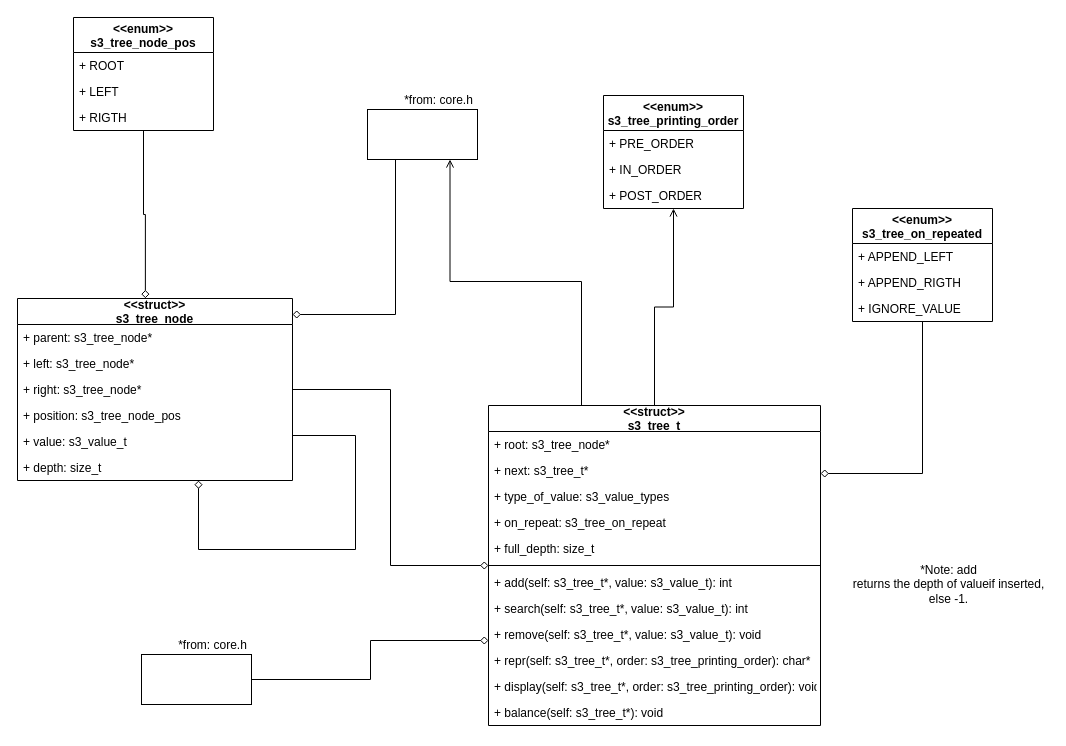
Image size: 1066x746. Some labels were removed from this diagram. Here are the shapes that lost their labels. From the top down, the centre of each, then its label:
At point 422,134: "s3_value_t".
At point 196,679: "s3_value_types".
